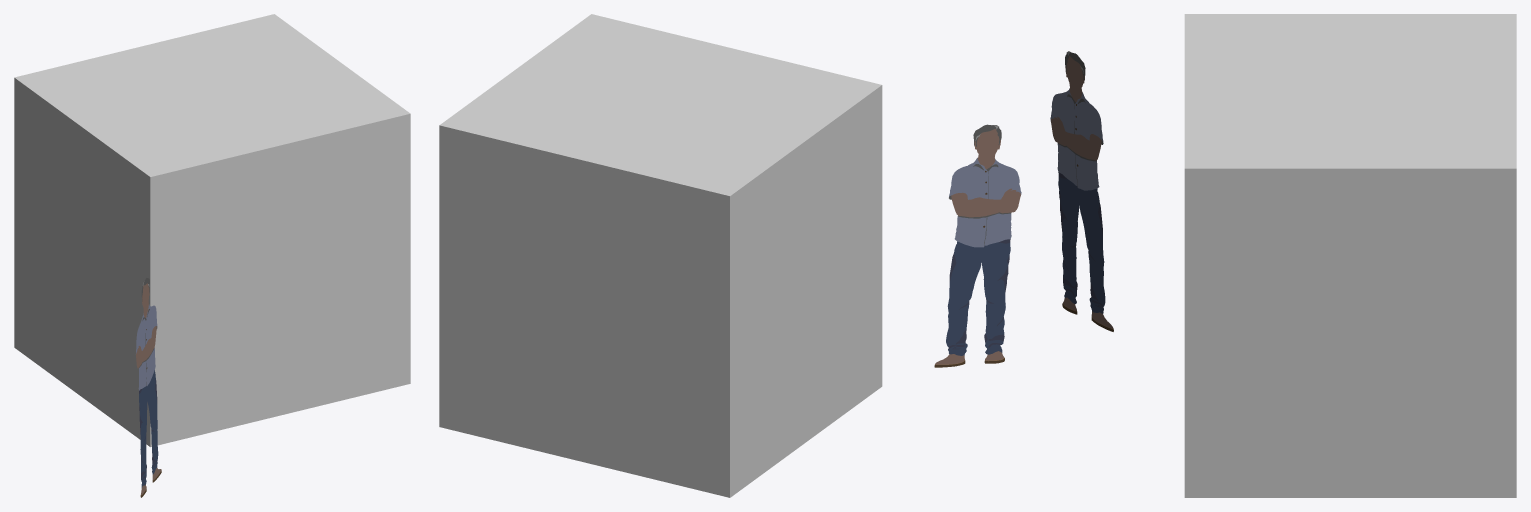
3 views of the same model, side by side, from view 1: azimuth 30°, elevation 25°; view 2: azimuth 150°, elevation 25°; view 3: azimuth 270°, elevation 25° (orthographic). The views are drawn at different scales.
Parts seen in each view (by area): view 1: SketchUp, Niraj; view 2: SketchUp, Niraj (×7); view 3: SketchUp, Niraj (×7).
Part boxes in pixels (x1,y1,x2,y2): SketchUp: (14,14,410,447); Niraj: (139,370,158,487); SketchUp: (439,14,882,497); Niraj (×7): (946,129,1021,355); SketchUp: (1184,14,1516,497); Niraj (×7): (1050,56,1105,313).
Size of the model in its own units: 114 by 114 by 89.02.
